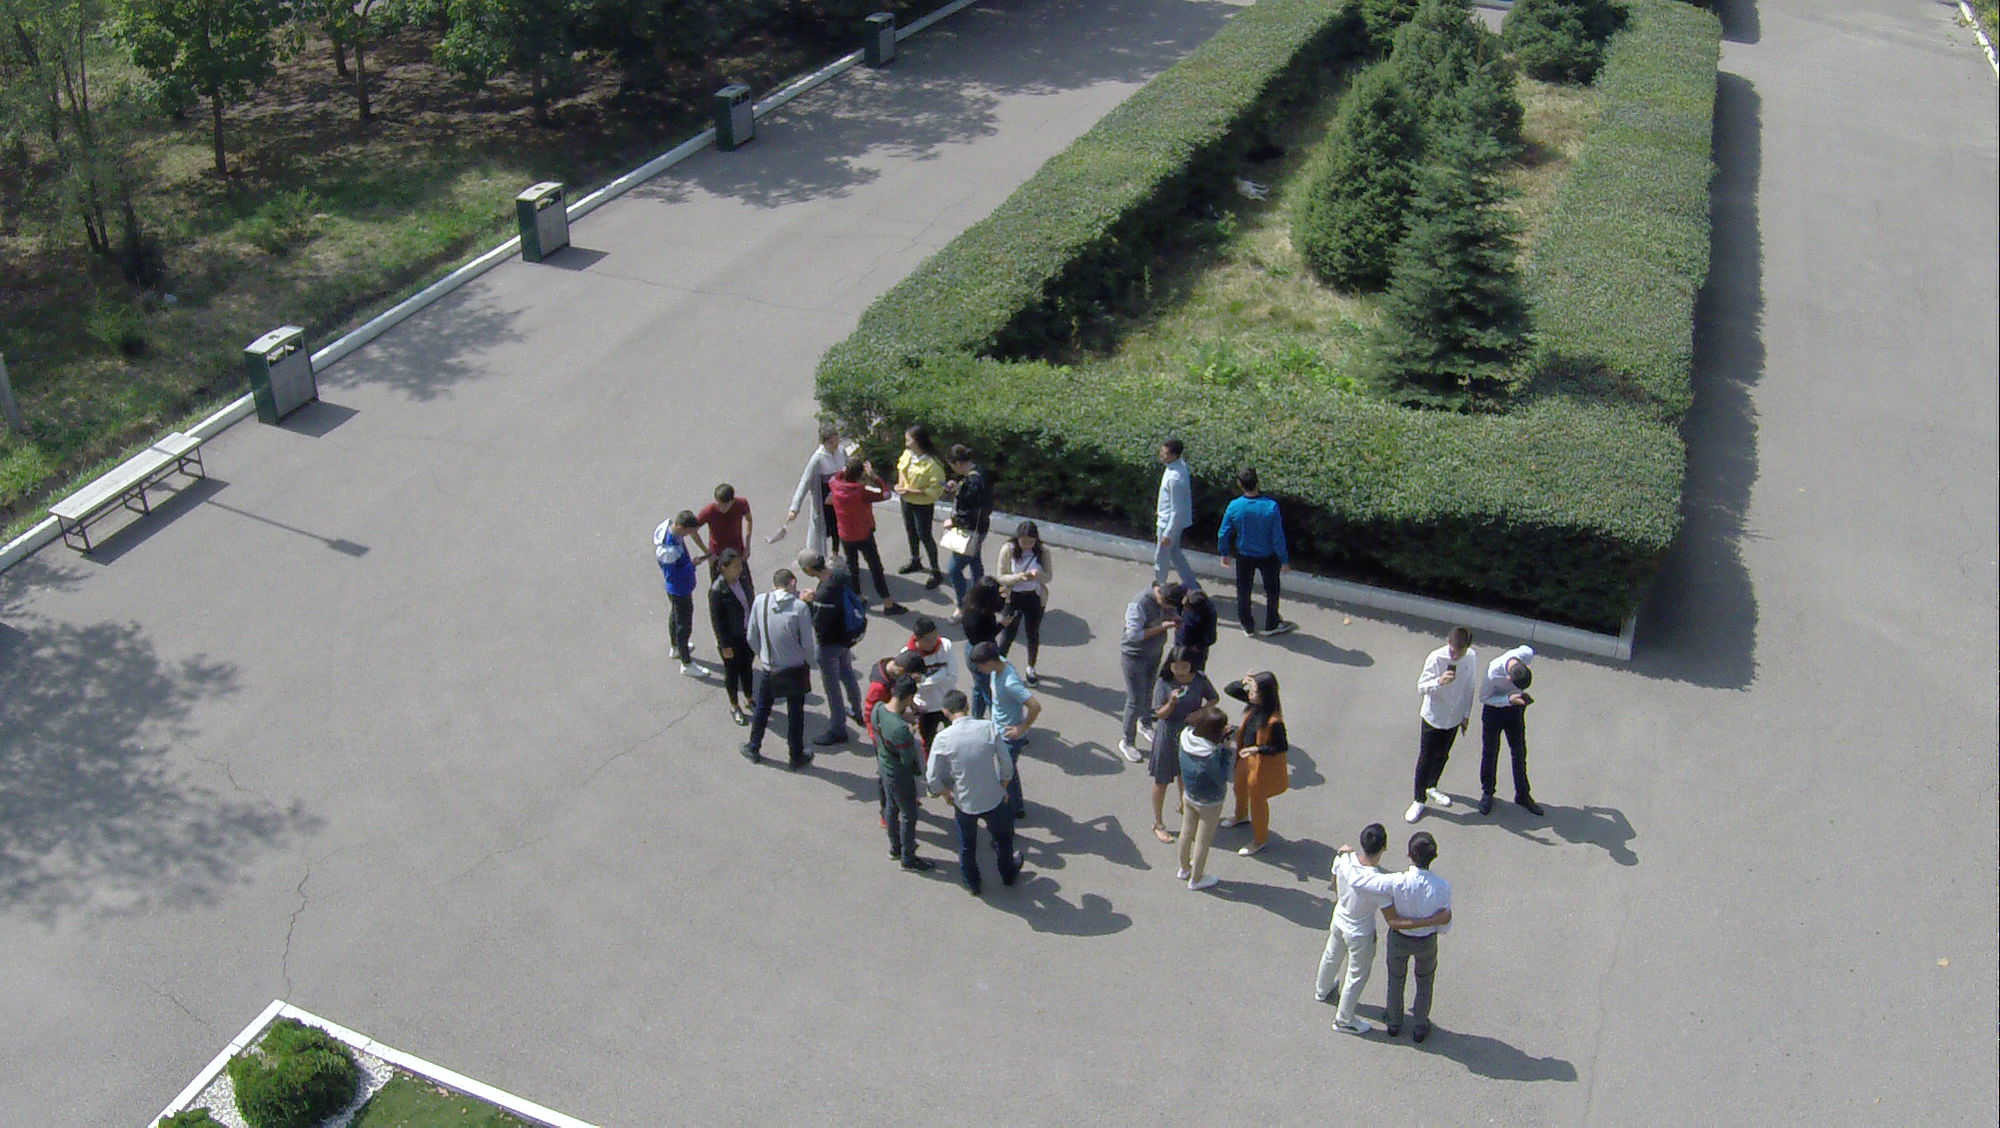person: (1382, 830, 1460, 1055), (1320, 810, 1393, 1033), (1218, 670, 1293, 866), (1480, 633, 1553, 822), (1222, 462, 1297, 645), (639, 505, 712, 685), (1407, 626, 1470, 828), (753, 576, 814, 770), (1170, 702, 1222, 895), (710, 543, 755, 743), (995, 528, 1051, 683), (812, 541, 853, 753), (828, 462, 895, 589), (1139, 437, 1193, 591), (949, 437, 999, 589), (1155, 651, 1189, 866), (895, 428, 941, 589), (1124, 574, 1157, 762), (714, 472, 766, 564), (1182, 578, 1218, 660), (801, 418, 828, 489)
